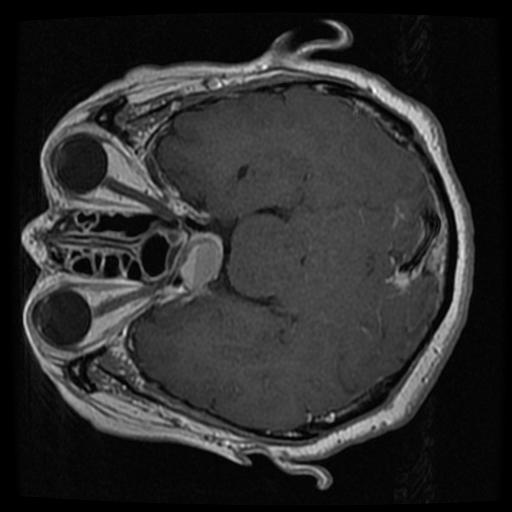pituitary tumour: (181, 232, 224, 295)
